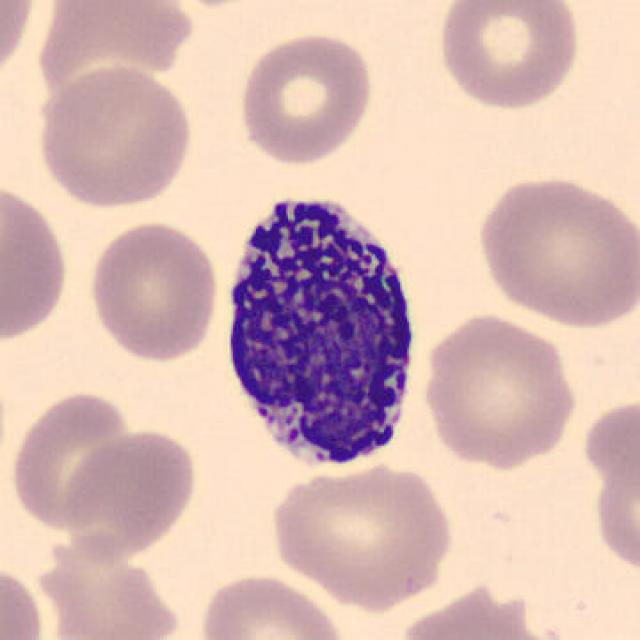Basophil: (213, 176, 427, 485)
RBC: (265, 457, 459, 610), (471, 169, 637, 330), (418, 310, 580, 471), (32, 62, 196, 210), (84, 217, 222, 365), (7, 384, 141, 536), (30, 0, 199, 118), (235, 28, 377, 168), (59, 425, 201, 561), (434, 0, 583, 113), (0, 176, 73, 348), (578, 390, 640, 584), (194, 569, 350, 640), (393, 580, 565, 640), (0, 557, 48, 640), (0, 0, 39, 92)
